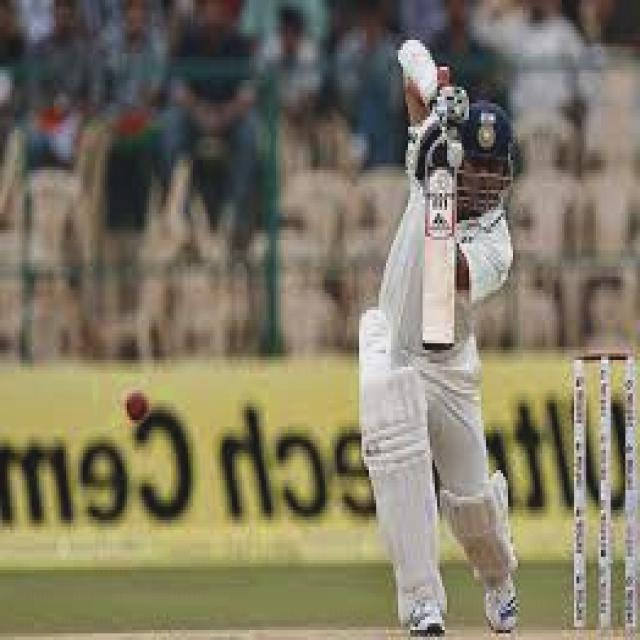bat: (415, 169, 463, 360)
toe: (422, 344, 456, 355)
